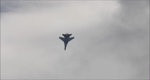maybay_muctieu: (60, 32, 75, 51)
